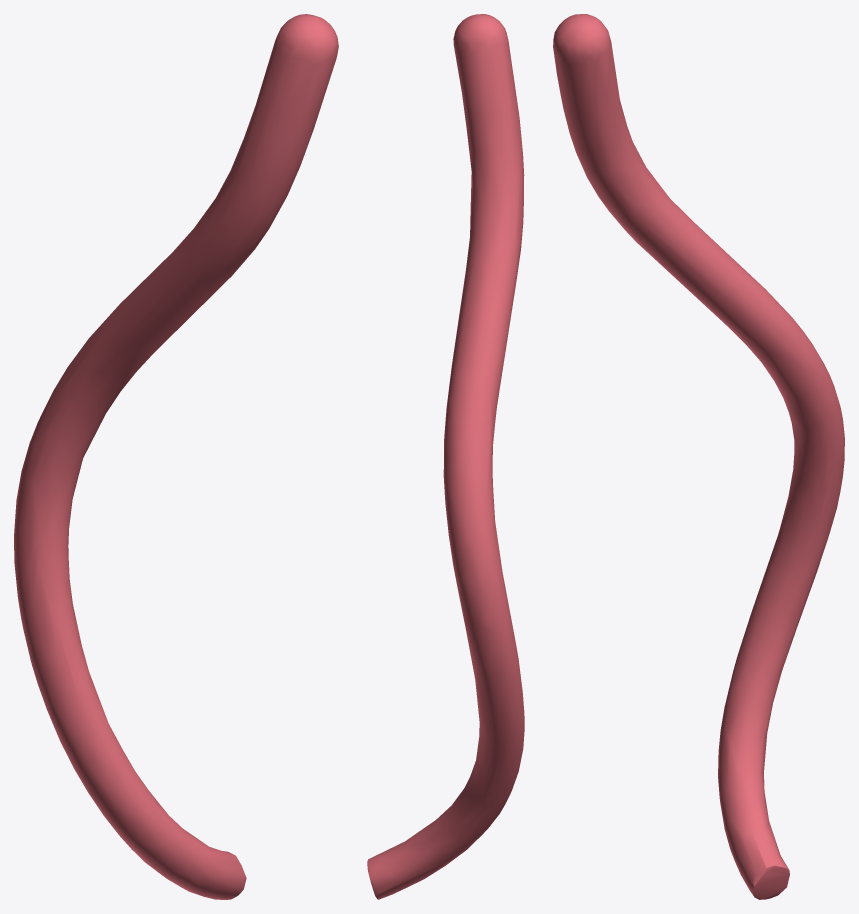
File: fma14787_fj3430.glb
3 renders of one model, left to right at view 1: azimuth 30°, elevation 25°; view 2: azimuth 150°, elevation 25°; view 3: azimuth 270°, elevation 25°, orthographic. The views are drawn at different scales.
Visible parts, largest first — view 1: FMA14787_FJ3430; view 2: FMA14787_FJ3430; view 3: FMA14787_FJ3430.
Boxes of the visible parts, <box> form: FMA14787_FJ3430: <box>14,14,338,899</box>; FMA14787_FJ3430: <box>367,14,524,899</box>; FMA14787_FJ3430: <box>553,14,844,899</box>.
Size of the model in its own units: 0.00667 by 0.031 by 0.00937.
